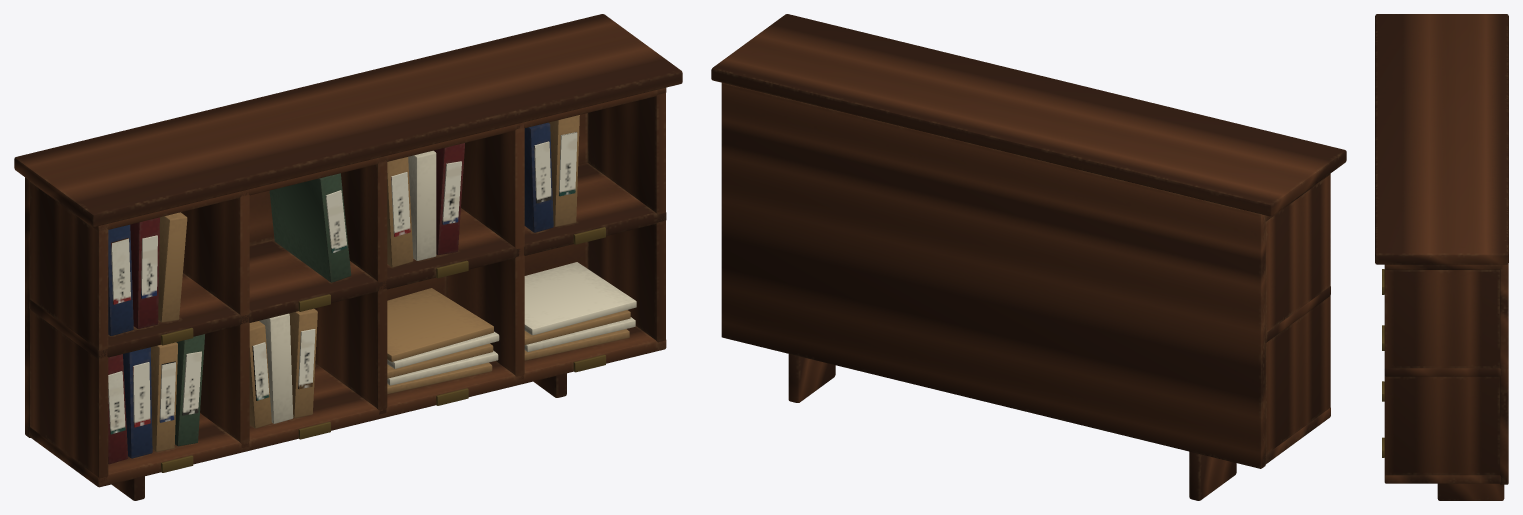
File: CTCC_PROP_CH01FileRack.fbx
3 renders of one model, left to right at view 1: azimuth 30°, elevation 25°; view 2: azimuth 150°, elevation 25°; view 3: azimuth 270°, elevation 25°, orthographic. The views are drawn at different scales.
Visible parts, largest first — view 1: CTCC_PROP_CH01FileRack; view 2: CTCC_PROP_CH01FileRack; view 3: CTCC_PROP_CH01FileRack.
Part boxes in pixels (bbox=[...]): CTCC_PROP_CH01FileRack: bbox=[14, 14, 682, 500]; CTCC_PROP_CH01FileRack: bbox=[711, 14, 1346, 500]; CTCC_PROP_CH01FileRack: bbox=[1375, 14, 1508, 500].
Size of the model in its own units: 1.29 by 0.696 by 0.302.
